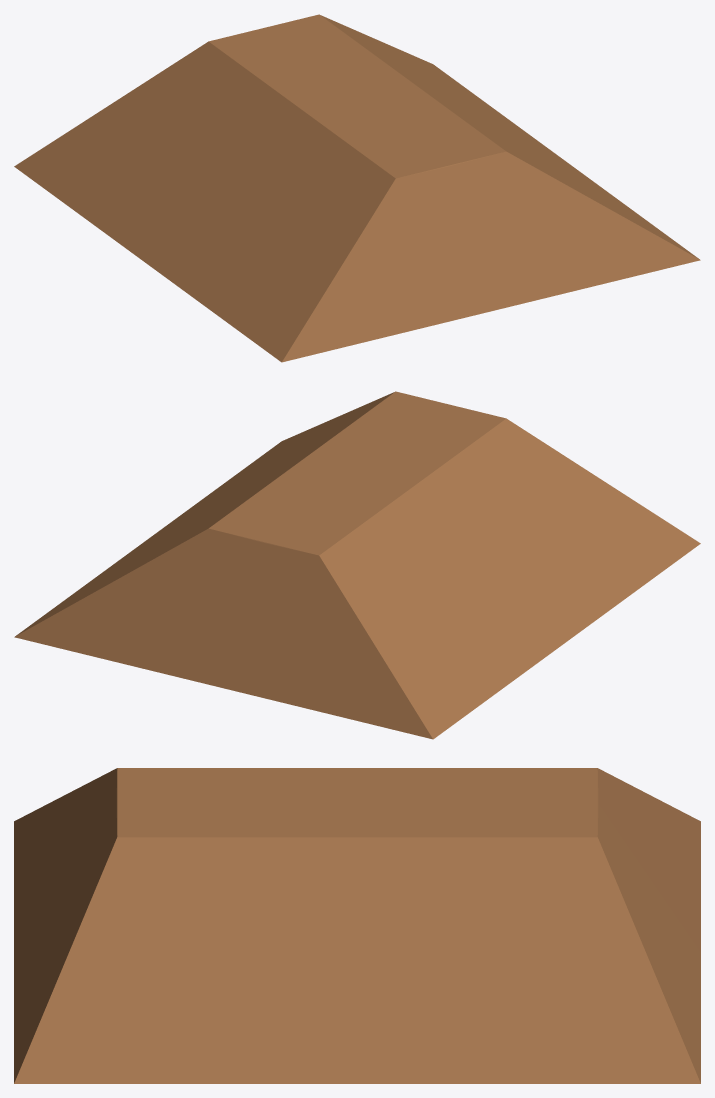
3 renders of one model, top to bottom at view 1: azimuth 30°, elevation 25°; view 2: azimuth 150°, elevation 25°; view 3: azimuth 270°, elevation 25°, orthographic. The views are drawn at different scales.
Visible parts, largest first — view 1: Cube; view 2: Cube; view 3: Cube.
Part boxes in pixels (x1=…): Cube: x1=14, y1=14, x2=700, y2=362; Cube: x1=14, y1=391, x2=700, y2=739; Cube: x1=14, y1=768, x2=700, y2=1083.
Size of the model in its own units: 390 by 104 by 432.
